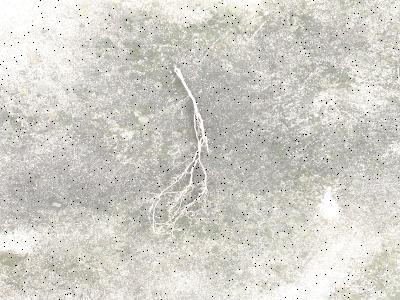Root: (174, 67, 209, 183)
